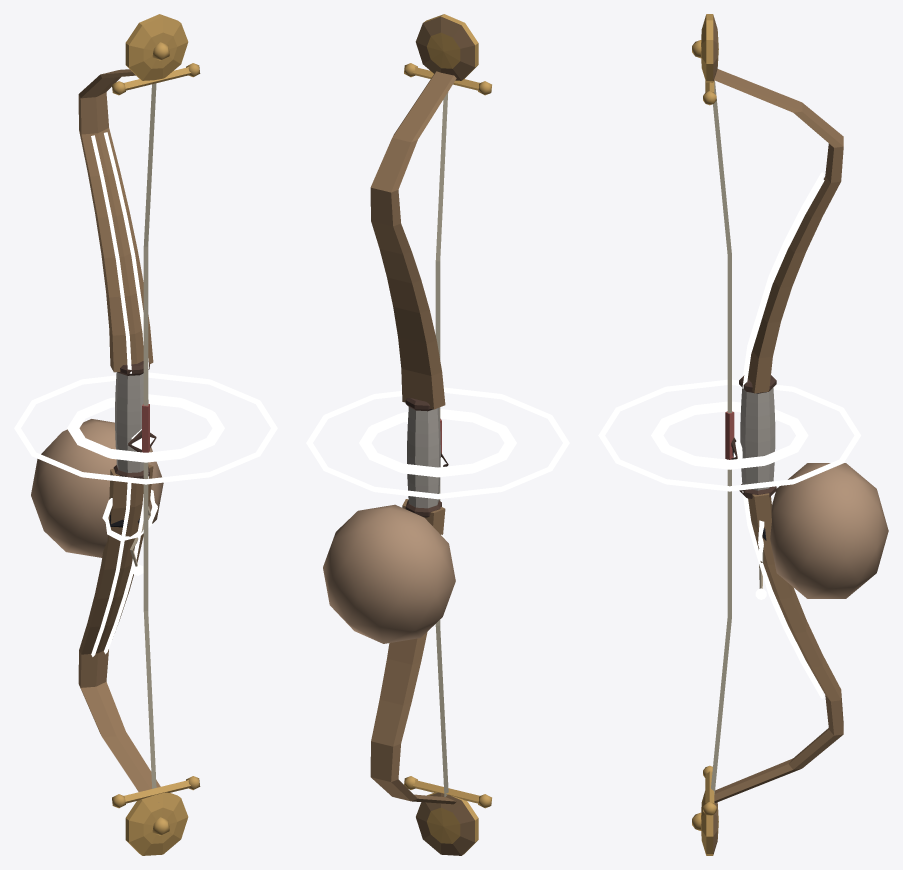
File: bow-humming.glb
3 renders of one model, left to right at view 1: azimuth 30°, elevation 25°; view 2: azimuth 150°, elevation 25°; view 3: azimuth 270°, elevation 25°, orthographic.
Visible parts, largest first — view 1: bow-humming, string, pulse_vein; view 2: bow-humming, string; view 3: bow-humming, string, pulse_vein.
Part boxes in pixels (x1=…): bow-humming: x1=31, y1=14, x2=200, y2=855; string: x1=14, y1=83, x2=277, y2=788; pulse_vein: x1=91, y1=132, x2=149, y2=656; bow-humming: x1=323, y1=14, x2=491, y2=855; string: x1=306, y1=92, x2=569, y2=796; bow-humming: x1=692, y1=14, x2=888, y2=855; string: x1=598, y1=80, x2=860, y2=794; pulse_vein: x1=742, y1=172, x2=824, y2=698.
Bounding box in the file's own units: 0.4618 × 1.62 × 0.5102.
